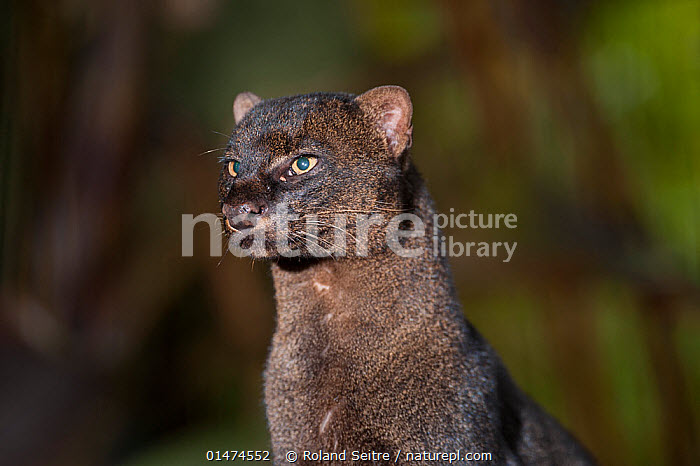Jaguarundi: (201, 80, 617, 444)
